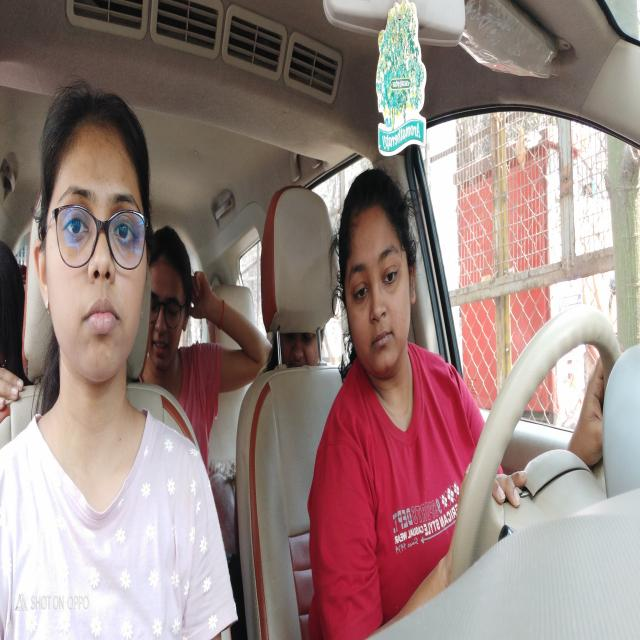person: (45, 109, 151, 381), (339, 183, 416, 362), (154, 240, 193, 370), (274, 327, 329, 365)
